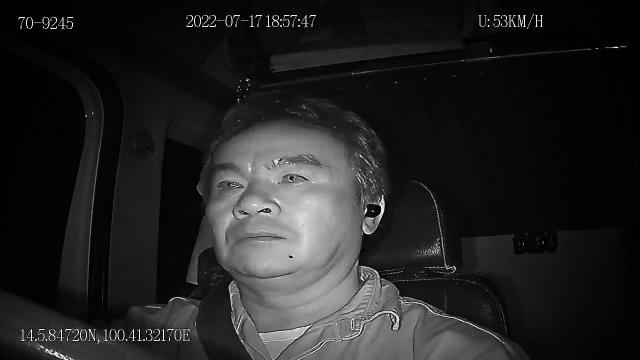SafeDriving: (210, 166, 250, 200), (272, 160, 316, 190)
Seatbelt: (194, 274, 256, 360)
